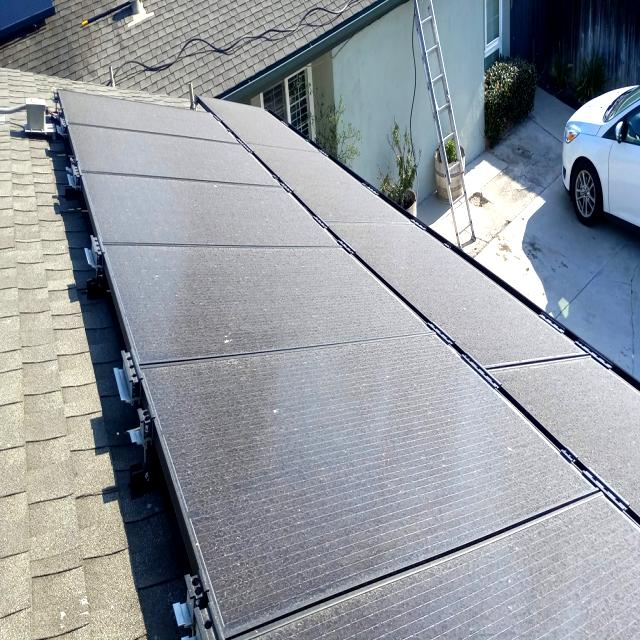dust: (190, 370, 470, 498), (238, 530, 546, 632), (125, 253, 351, 345), (558, 376, 624, 638), (101, 186, 288, 236), (480, 298, 527, 494), (89, 140, 241, 180), (72, 88, 204, 132)
